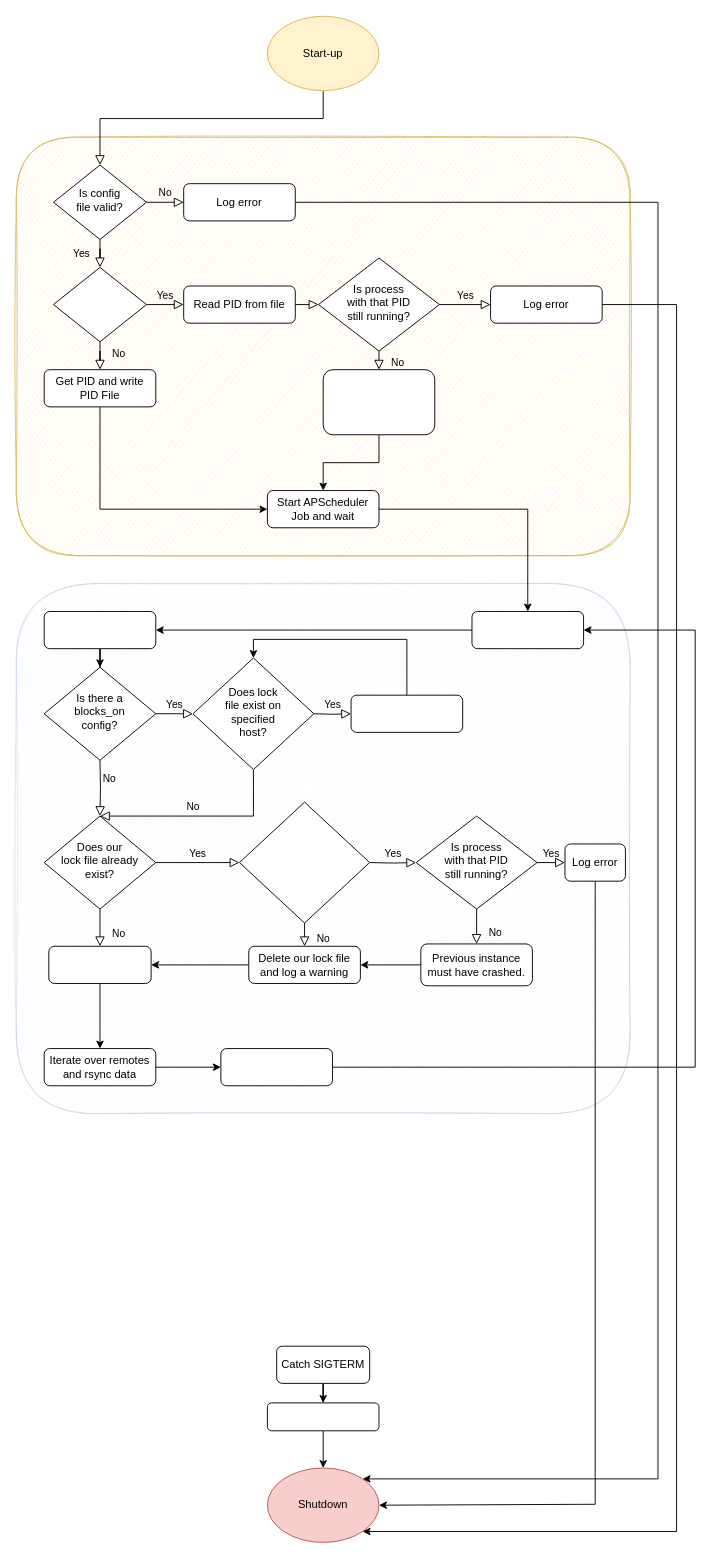
The diagram is 719 pixels wide and 1559 high, and some of its shapes have lost their labels. Each missing label, with the centre of its shape:
"Begin rsync job" goes at pixel 99 630.
"Delete PID file" goes at pixel 322 1416.
"Does our lock file contain a PID different then our own?" goes at pixel 304 862.
"Does PID file exist?" goes at pixel 99 304.
"Finish processing and delete our lock file" goes at pixel 276 1067.
"Previous instance must have crashed. Overwrite with your PID and continue" goes at pixel 378 402.
"Sleep configured time interval" goes at pixel 406 713.
"Wait for next job to start" goes at pixel 527 630.
"Write our lock file with our PID" goes at pixel 99 964.
